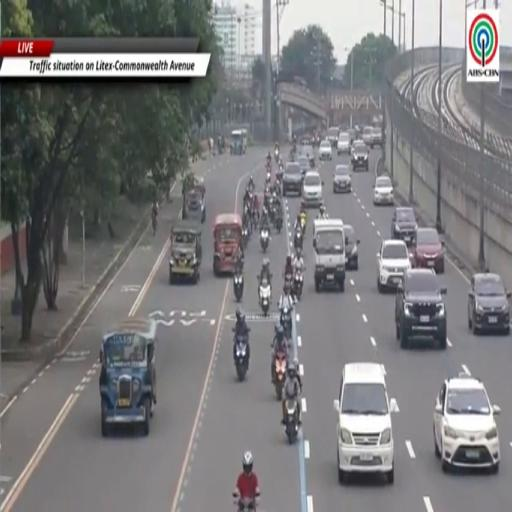car: (334, 362, 398, 484), (433, 374, 500, 473), (395, 269, 446, 349), (468, 274, 511, 333), (313, 219, 345, 293), (377, 240, 411, 292), (411, 228, 444, 274), (391, 206, 417, 246), (302, 171, 323, 207), (344, 224, 360, 270), (282, 163, 302, 196), (373, 176, 393, 205), (333, 165, 351, 193), (351, 142, 368, 171), (300, 146, 315, 167), (297, 155, 310, 179), (337, 133, 350, 155), (326, 127, 339, 148), (319, 140, 332, 161), (371, 127, 382, 148), (362, 126, 372, 147), (351, 139, 364, 155), (300, 144, 314, 157), (348, 128, 355, 146)
jeepney: (99, 317, 157, 437), (169, 220, 202, 283), (213, 214, 242, 276), (182, 173, 205, 222), (183, 186, 205, 222), (231, 130, 246, 155)
motorcycle: (285, 398, 299, 444), (274, 350, 287, 399), (235, 336, 248, 380), (233, 490, 259, 511), (259, 280, 271, 316), (280, 305, 292, 339), (233, 272, 244, 302), (293, 270, 303, 300), (260, 229, 269, 252), (294, 230, 303, 250), (242, 226, 250, 247), (300, 215, 306, 235), (275, 215, 282, 232), (265, 170, 272, 184), (277, 164, 284, 175), (275, 149, 279, 163), (292, 142, 296, 153)
